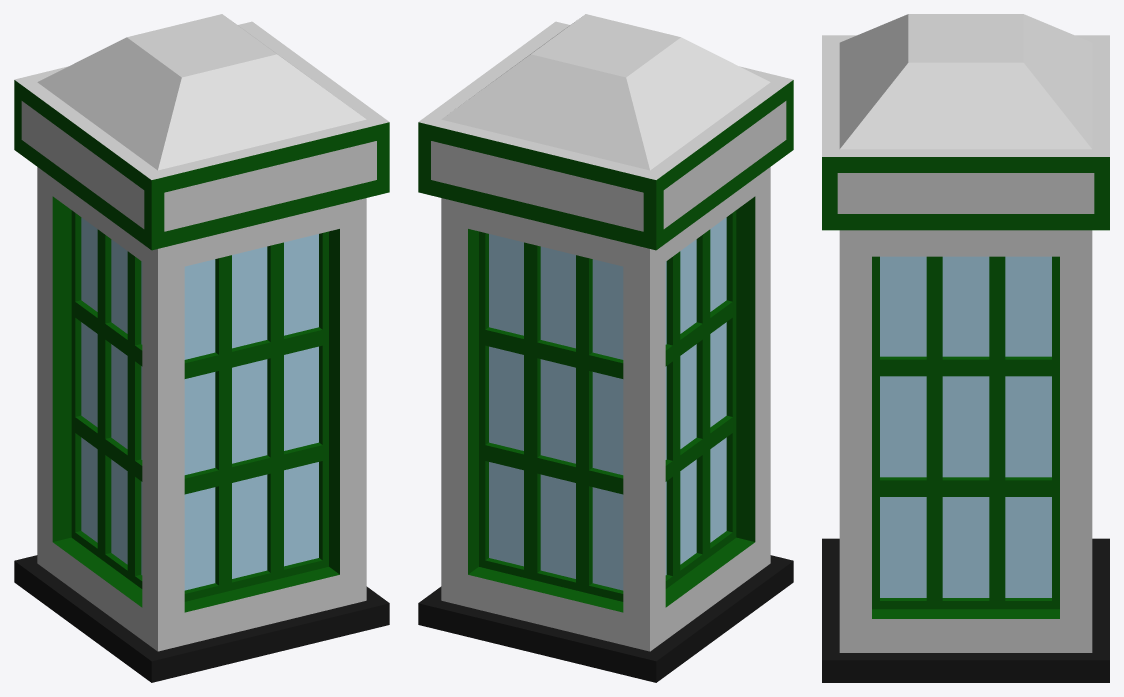
File: phonebooth.fbx
3 renders of one model, left to right at view 1: azimuth 30°, elevation 25°; view 2: azimuth 150°, elevation 25°; view 3: azimuth 270°, elevation 25°, orthographic. The views are drawn at different scales.
Parts seen in each view (by area): view 1: Phonebooth; view 2: Phonebooth; view 3: Phonebooth.
Boxes of the visible parts, left/top/right/bottom form: Phonebooth: left=14, top=14, right=389, bottom=682; Phonebooth: left=418, top=14, right=793, bottom=682; Phonebooth: left=822, top=14, right=1109, bottom=682.
Size of the model in its own units: 245 by 550 by 245.
